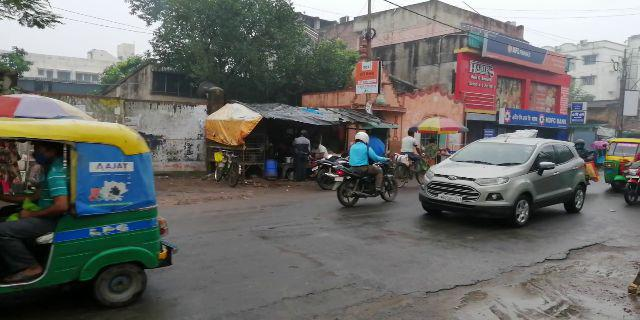Autorickshaw: (6, 121, 166, 296)
Car: (429, 134, 586, 236)
Motorbike: (330, 132, 401, 207)
